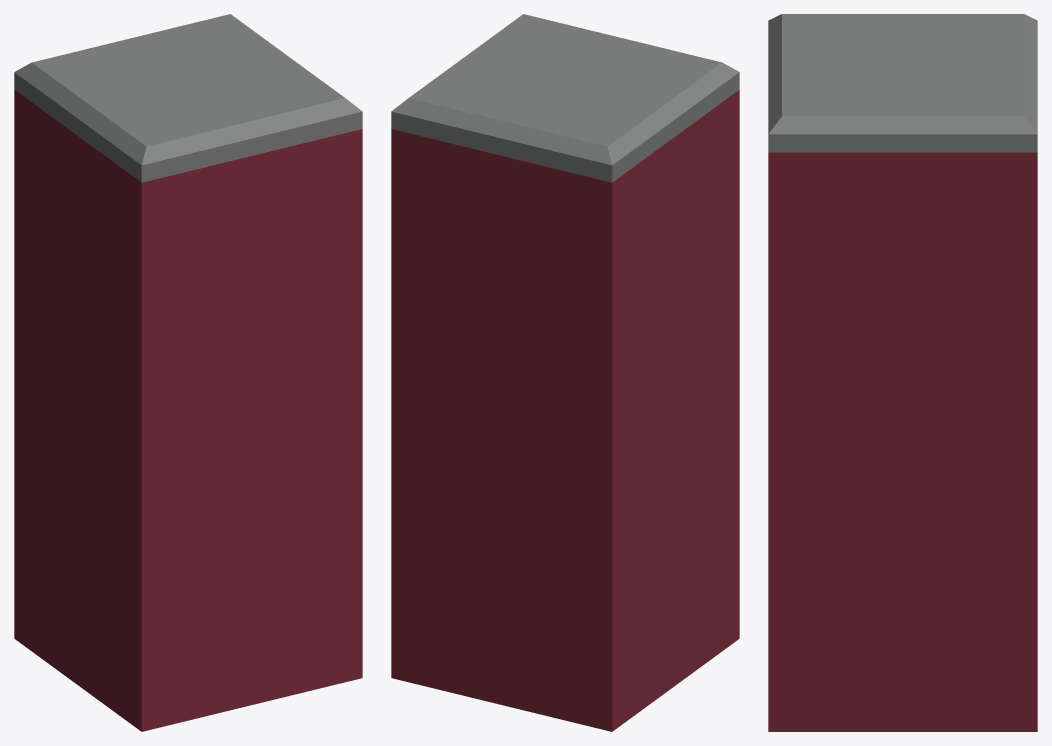
Rendered from Tile_Red_1.fbx.
3 views of the same model, side by side, from view 1: azimuth 30°, elevation 25°; view 2: azimuth 150°, elevation 25°; view 3: azimuth 270°, elevation 25° (orthographic). The views are drawn at different scales.
Parts seen in each view (by area): view 1: Cube; view 2: Cube; view 3: Cube.
Boxes of the visible parts, x1=… form: Cube: x1=14, y1=14, x2=362, y2=731; Cube: x1=391, y1=14, x2=739, y2=731; Cube: x1=768, y1=14, x2=1037, y2=731.
Bounding box in the file's own units: 2 × 5 × 2.
